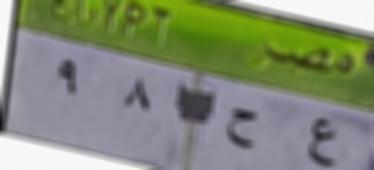7aa: (221, 104, 264, 152)
8: (118, 78, 164, 114)
9: (50, 57, 86, 98)
ain: (301, 114, 344, 170)
